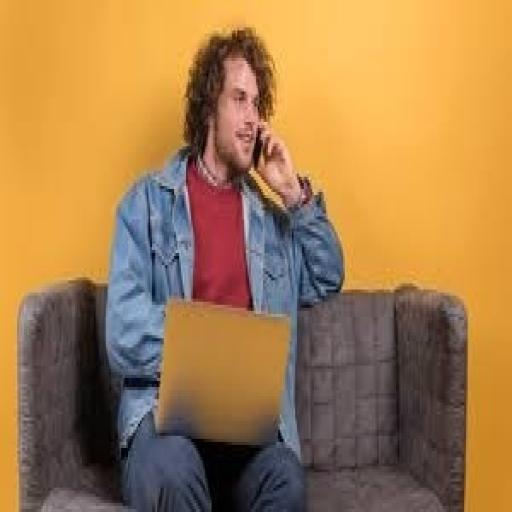calling: (102, 24, 346, 509)
